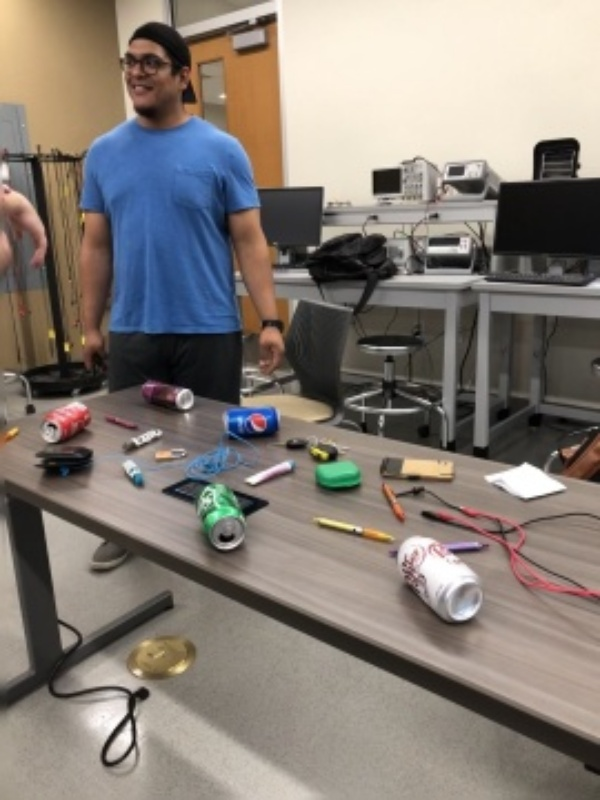can: (393, 533, 488, 625), (194, 480, 251, 553), (37, 399, 95, 445), (133, 375, 196, 413), (218, 405, 284, 440)
